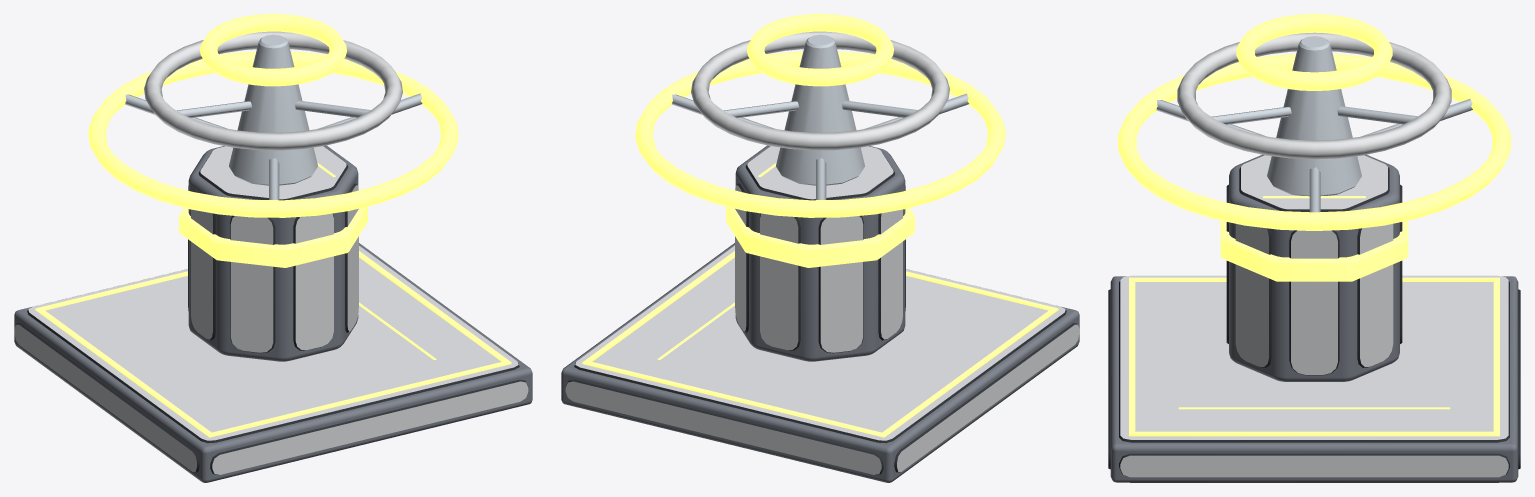
The model's file is R4X_SupportTurretDeployer.fbx.
3 views of the same model, side by side, from view 1: azimuth 30°, elevation 25°; view 2: azimuth 150°, elevation 25°; view 3: azimuth 270°, elevation 25° (orthographic). The views are drawn at different scales.
Visible parts, largest first — view 1: R4X_SupportTurretDeployer_Pod, R4X_SupportTurretDeployer_Body; view 2: R4X_SupportTurretDeployer_Pod, R4X_SupportTurretDeployer_Body; view 3: R4X_SupportTurretDeployer_Pod, R4X_SupportTurretDeployer_Body.
Boxes of the visible parts, x1,y1,x2,y2 form: R4X_SupportTurretDeployer_Pod: (88, 14, 458, 361); R4X_SupportTurretDeployer_Body: (14, 243, 532, 482); R4X_SupportTurretDeployer_Pod: (635, 14, 1005, 361); R4X_SupportTurretDeployer_Body: (561, 243, 1079, 482); R4X_SupportTurretDeployer_Pod: (1118, 14, 1510, 381); R4X_SupportTurretDeployer_Body: (1108, 275, 1520, 482).
Size of the model in its own units: 0.52 by 0.5 by 0.52.
